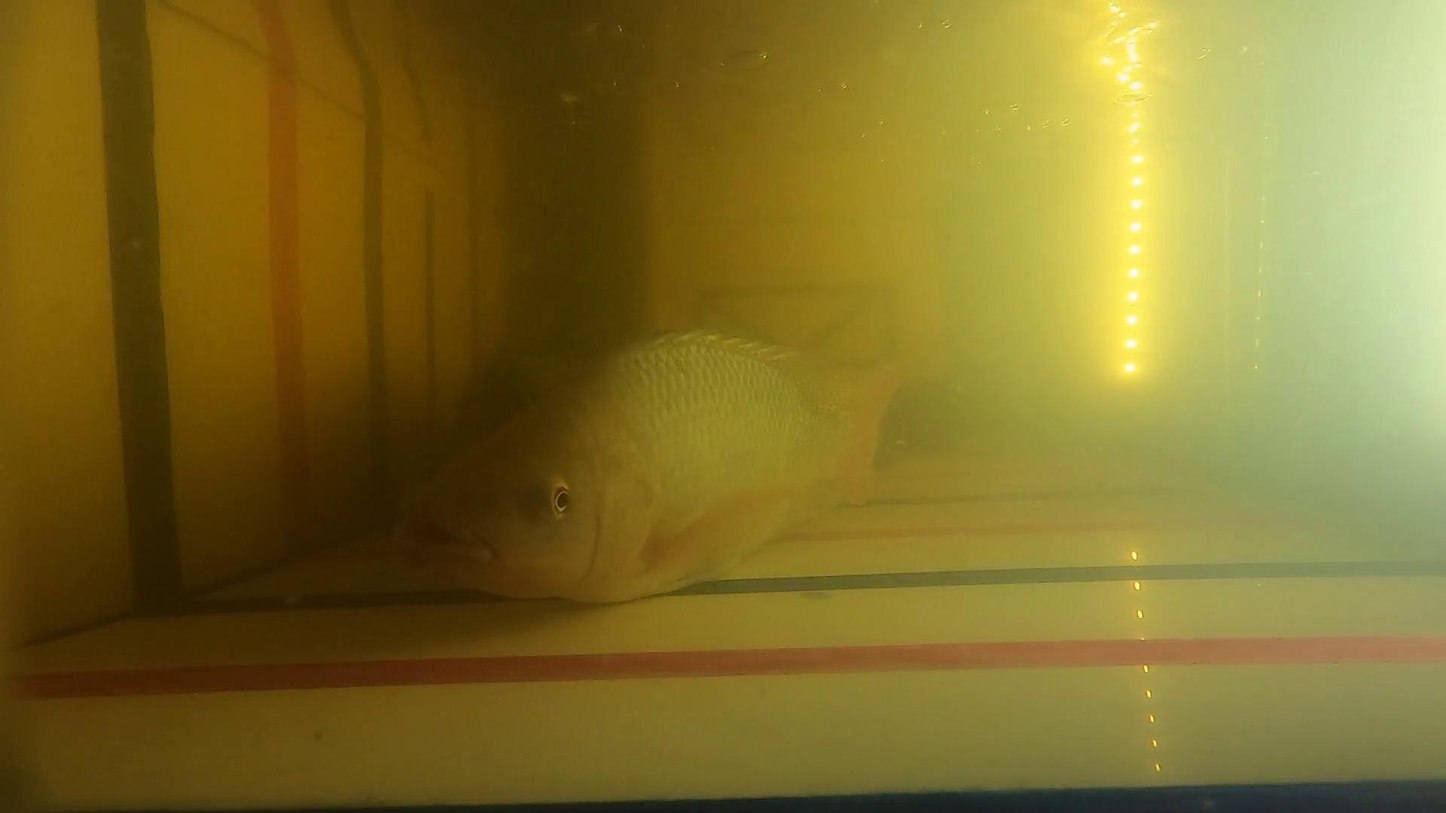Tilapia: (390, 330, 901, 606)
